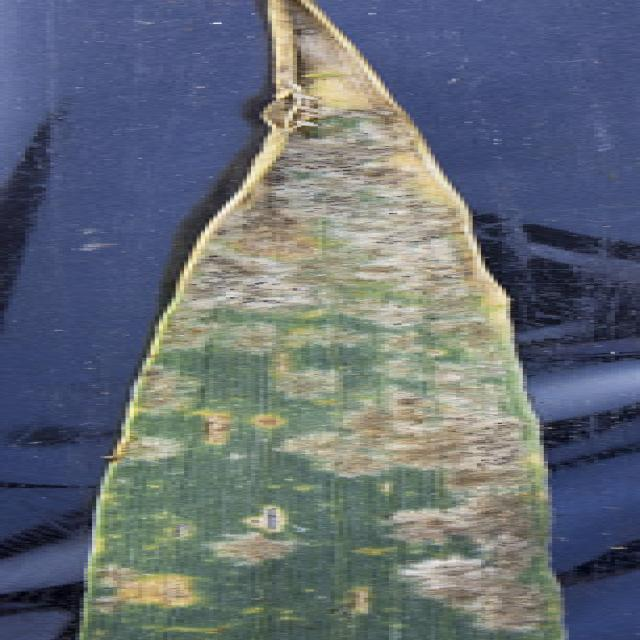wheat-powdery-mildew: (75, 0, 569, 640)
